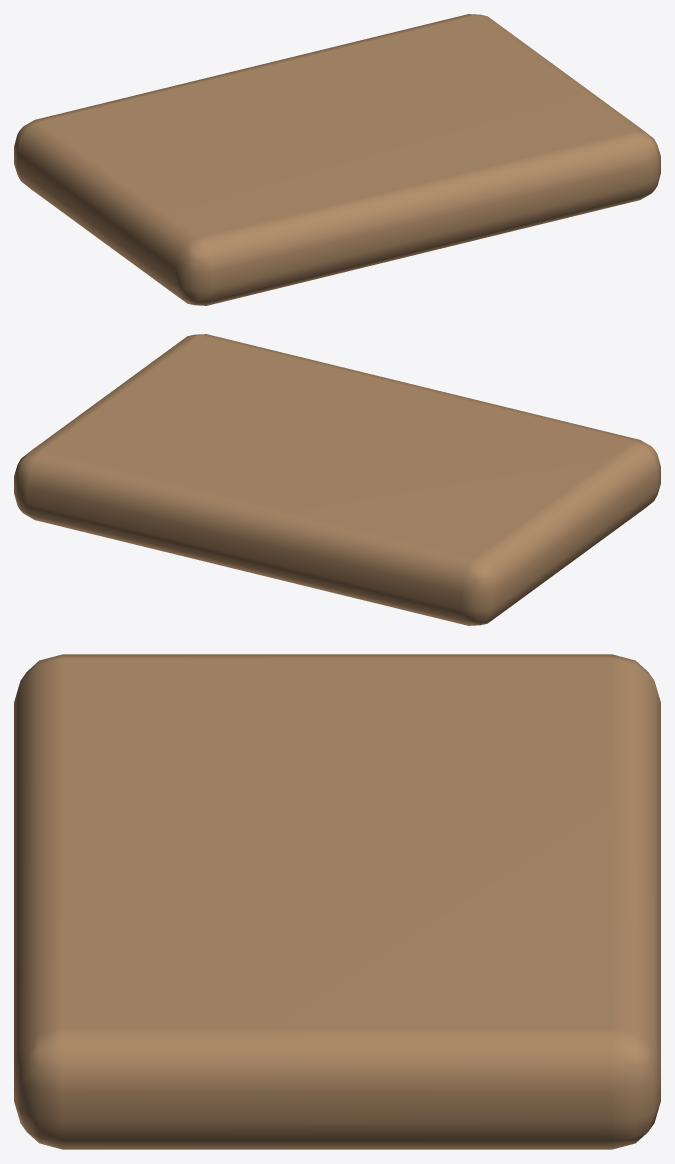
File: atelier-cutting-board.glb
3 views of the same model, one above another, from view 1: azimuth 30°, elevation 25°; view 2: azimuth 150°, elevation 25°; view 3: azimuth 270°, elevation 25° (orthographic). The views are drawn at different scales.
Visible parts, largest first — view 1: legs.159; view 2: legs.159; view 3: legs.159.
Part boxes in pixels (bbox=[...]): legs.159: bbox=[14, 14, 660, 305]; legs.159: bbox=[14, 334, 660, 625]; legs.159: bbox=[14, 654, 660, 1149].
Size of the model in its own units: 0.3 by 0.04 by 0.2.
